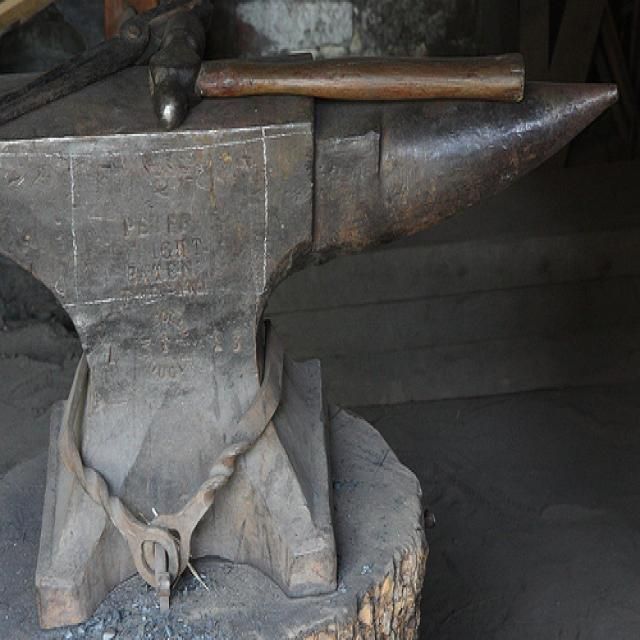hammer: (107, 0, 496, 136)
